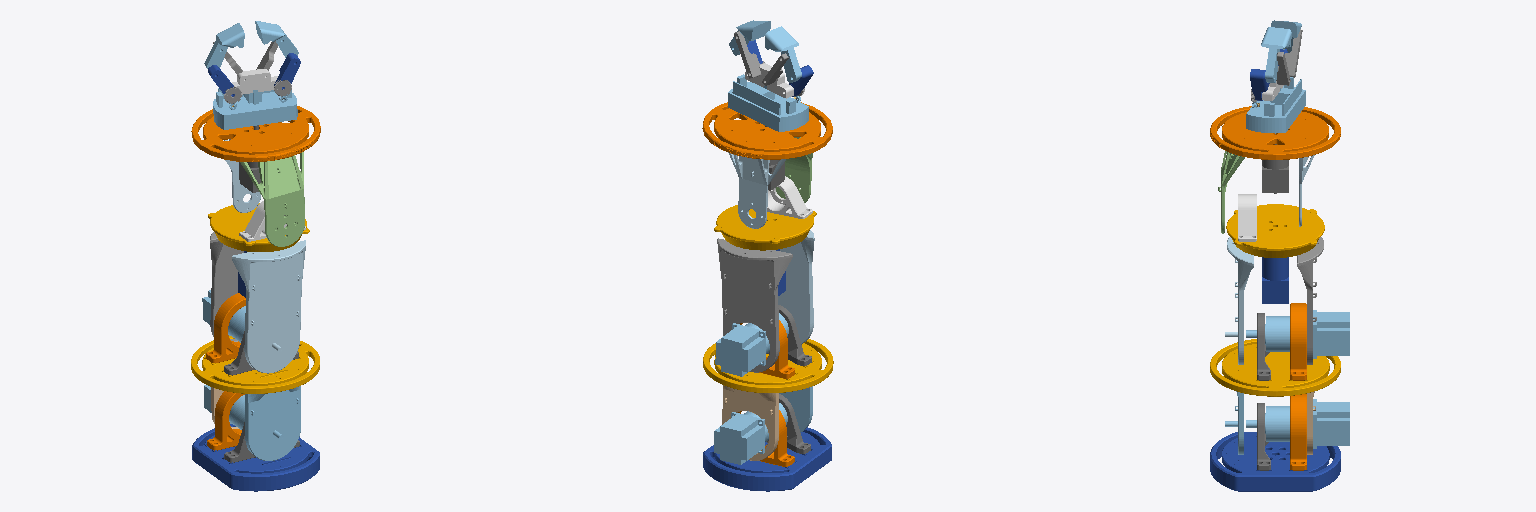
--- Facts derived from the render (not from the file) ---
Views: 3 orthographic renders of the robot side by side, from view 1: azimuth 30°, elevation 25°; view 2: azimuth 150°, elevation 25°; view 3: azimuth 270°, elevation 25°.
Model robot with 9 links and 8 joints (7 revolute, 1 fixed), rooted at ob1_arm_base_link, posed every joint at zero.
Links seen in each view (by area): view 1: ob1_arm_shoulder_link, ob1_arm_forearm_link, ob1_arm_arm_link, ob1_arm_base_link, ob1_arm_gripper_base_link, ob1_arm_elbow_link, ob1_arm_rclaw_link, ob1_arm_lclaw_link; view 2: ob1_arm_shoulder_link, ob1_arm_arm_link, ob1_arm_forearm_link, ob1_arm_base_link, ob1_arm_elbow_link, ob1_arm_gripper_base_link, ob1_arm_lclaw_link, ob1_arm_rclaw_link; view 3: ob1_arm_base_link, ob1_arm_shoulder_link, ob1_arm_forearm_link, ob1_arm_elbow_link, ob1_arm_arm_link, ob1_arm_gripper_base_link, ob1_arm_rclaw_link, ob1_arm_lclaw_link.
Boxes of the visible links, <box> form: ob1_arm_shoulder_link: <box>191,290,319,460</box>; ob1_arm_forearm_link: <box>191,106,320,246</box>; ob1_arm_arm_link: <box>210,232,305,373</box>; ob1_arm_base_link: <box>192,385,319,491</box>; ob1_arm_gripper_base_link: <box>213,69,297,129</box>; ob1_arm_elbow_link: <box>208,201,309,251</box>; ob1_arm_rclaw_link: <box>255,21,300,89</box>; ob1_arm_lclaw_link: <box>204,23,244,96</box>; ob1_arm_shoulder_link: <box>703,305,833,460</box>; ob1_arm_arm_link: <box>717,230,814,372</box>; ob1_arm_forearm_link: <box>702,102,832,228</box>; ob1_arm_base_link: <box>703,394,831,491</box>; ob1_arm_elbow_link: <box>714,176,816,250</box>; ob1_arm_gripper_base_link: <box>728,61,808,131</box>; ob1_arm_lclaw_link: <box>762,26,813,96</box>; ob1_arm_rclaw_link: <box>729,20,770,78</box>; ob1_arm_base_link: <box>1210,394,1349,491</box>; ob1_arm_shoulder_link: <box>1210,303,1349,454</box>; ob1_arm_forearm_link: <box>1210,106,1340,233</box>; ob1_arm_elbow_link: <box>1226,194,1324,257</box>; ob1_arm_arm_link: <box>1225,237,1323,364</box>; ob1_arm_gripper_base_link: <box>1246,77,1305,133</box>; ob1_arm_rclaw_link: <box>1250,27,1291,100</box>; ob1_arm_lclaw_link: <box>1271,20,1302,77</box>.
Bounding box of the posed robot: 0.2011 × 0.2135 × 0.7468 m (x, y, z).
Meshes: 33 distinct files referenced, 36 mesh visuals loaded (31 binary STL); not drawn: 2 (reference not matched to a file when rendering).

The robot description file, URDF, robot "robot":
<?xml version="1.0" ?>
<!-- =================================================================================== -->
<!-- |    This document was autogenerated by xacro from main.xacro                     | -->
<!-- |    EDITING THIS FILE BY HAND IS NOT RECOMMENDED                                 | -->
<!-- =================================================================================== -->
<robot name="robot">
  <link name="ob1_arm_base_link">
    <visual>
      <origin rpy="-1.5708 1.21431e-16 3.90606e-18" xyz="3.31402e-16 -0.0195 0.06"/>
      <geometry>
        <mesh filename="meshes/shoulder_y_motor.stl"/>
      </geometry>
      <material name="shoulder_y_motor_material">
        <color rgba="0.615686 0.811765 0.929412 1.0"/>
      </material>
    </visual>
    <collision>
      <origin rpy="-1.5708 1.21431e-16 3.90606e-18" xyz="3.31402e-16 -0.0195 0.06"/>
      <geometry>
        <mesh filename="meshes/shoulder_y_motor.stl"/>
      </geometry>
      <material name="shoulder_y_motor_material">
        <color rgba="0.615686 0.811765 0.929412 1.0"/>
      </material>
    </collision>
    <visual>
      <origin rpy="-1.5708 1.2013e-16 2.92997e-21" xyz="1.33481e-16 -0.0195 0.06"/>
      <geometry>
        <mesh filename="meshes/shoulder_plate.stl"/>
      </geometry>
      <material name="shoulder_plate_material">
        <color rgba="0.231373 0.380392 0.705882 1.0"/>
      </material>
    </visual>
    <collision>
      <origin rpy="-1.5708 1.2013e-16 2.92997e-21" xyz="1.33481e-16 -0.0195 0.06"/>
      <geometry>
        <mesh filename="meshes/shoulder_plate.stl"/>
      </geometry>
      <material name="shoulder_plate_material">
        <color rgba="0.231373 0.380392 0.705882 1.0"/>
      </material>
    </collision>
    <visual>
      <origin rpy="-1.5708 1.20997e-16 7.25353e-18" xyz="3.46418e-16 -0.0195 0.06"/>
      <geometry>
        <mesh filename="meshes/motor_front_support_-_shoulder.stl"/>
      </geometry>
      <material name="motor_front_support_-_shoulder_material">
        <color rgba="0.498039 0.498039 0.498039 1.0"/>
      </material>
    </visual>
    <collision>
      <origin rpy="-1.5708 1.20997e-16 7.25353e-18" xyz="3.46418e-16 -0.0195 0.06"/>
      <geometry>
        <mesh filename="meshes/motor_front_support_-_shoulder.stl"/>
      </geometry>
      <material name="motor_front_support_-_shoulder_material">
        <color rgba="0.498039 0.498039 0.498039 1.0"/>
      </material>
    </collision>
    <visual>
      <origin rpy="-1.5708 1.2013e-16 2.92997e-21" xyz="-6.34937e-17 -0.0195 0.06"/>
      <geometry>
        <mesh filename="meshes/motor_mid_support_-_shoulder.stl"/>
      </geometry>
      <material name="motor_mid_support_-_shoulder_material">
        <color rgba="0.972549 0.529412 0.00392157 1.0"/>
      </material>
    </visual>
    <collision>
      <origin rpy="-1.5708 1.2013e-16 2.92997e-21" xyz="-6.34937e-17 -0.0195 0.06"/>
      <geometry>
        <mesh filename="meshes/motor_mid_support_-_shoulder.stl"/>
      </geometry>
      <material name="motor_mid_support_-_shoulder_material">
        <color rgba="0.972549 0.529412 0.00392157 1.0"/>
      </material>
    </collision>
    <inertial>
      <origin rpy="0 0 0" xyz="0 0 0"/>
      <mass value="0"/>
      <inertia ixx="0" ixy="0" ixz="0" iyy="0" iyz="0" izz="0"/>
    </inertial>
  </link>
  <link name="ob1_arm_shoulder_link">
    <visual>
      <origin rpy="3.14159 -2.02376e-31 3.10097e-18" xyz="-2.59124e-17 0.15 0.067"/>
      <geometry>
        <mesh filename="meshes/shoulder_linkage_-_motor.stl"/>
      </geometry>
      <material name="shoulder_linkage_-_motor_material">
        <color rgba="0.921569 0.8 0.654902 1.0"/>
      </material>
    </visual>
    <collision>
      <origin rpy="3.14159 -2.02376e-31 3.10097e-18" xyz="-2.59124e-17 0.15 0.067"/>
      <geometry>
        <mesh filename="meshes/shoulder_linkage_-_motor.stl"/>
      </geometry>
      <material name="shoulder_linkage_-_motor_material">
        <color rgba="0.921569 0.8 0.654902 1.0"/>
      </material>
    </collision>
    <visual>
      <origin rpy="-3.14159 6.26309e-30 3.30936e-16" xyz="8.79071e-16 6.245e-16 0.067"/>
      <geometry>
        <mesh filename="meshes/bicep_y_motor.stl"/>
      </geometry>
      <material name="bicep_y_motor_material">
        <color rgba="0.615686 0.811765 0.929412 1.0"/>
      </material>
    </visual>
    <collision>
      <origin rpy="-3.14159 6.26309e-30 3.30936e-16" xyz="8.79071e-16 6.245e-16 0.067"/>
      <geometry>
        <mesh filename="meshes/bicep_y_motor.stl"/>
      </geometry>
      <material name="bicep_y_motor_material">
        <color rgba="0.615686 0.811765 0.929412 1.0"/>
      </material>
    </collision>
    <visual>
      <origin rpy="-3.14159 1.39936e-30 -2.98503e-17" xyz="1.03715e-15 1.04083e-15 0.067"/>
      <geometry>
        <mesh filename="meshes/motor_front_support_-_bicep.stl"/>
      </geometry>
      <material name="motor_front_support_-_bicep_material">
        <color rgba="0.498039 0.498039 0.498039 1.0"/>
      </material>
    </visual>
    <collision>
      <origin rpy="-3.14159 1.39936e-30 -2.98503e-17" xyz="1.03715e-15 1.04083e-15 0.067"/>
      <geometry>
        <mesh filename="meshes/motor_front_support_-_bicep.stl"/>
      </geometry>
      <material name="motor_front_support_-_bicep_material">
        <color rgba="0.498039 0.498039 0.498039 1.0"/>
      </material>
    </collision>
    <visual>
      <origin rpy="-3.14159 1.84829e-30 -7.32146e-17" xyz="1.05677e-15 1.06859e-15 0.067"/>
      <geometry>
        <mesh filename="meshes/bicep_plate_-_real.stl"/>
      </geometry>
      <material name="bicep_plate_-_real_material">
        <color rgba="0.980392 0.713725 0.00392157 1.0"/>
      </material>
    </visual>
    <collision>
      <origin rpy="-3.14159 1.84829e-30 -7.32146e-17" xyz="1.05677e-15 1.06859e-15 0.067"/>
      <geometry>
        <mesh filename="meshes/bicep_plate_-_real.stl"/>
      </geometry>
      <material name="bicep_plate_-_real_material">
        <color rgba="0.980392 0.713725 0.00392157 1.0"/>
      </material>
    </collision>
    <visual>
      <origin rpy="-3.14159 1.97023e-30 1.36668e-16" xyz="9.52797e-16 9.57567e-16 0.067"/>
      <geometry>
        <mesh filename="meshes/shoulder_linkage_-_encoder.stl"/>
      </geometry>
      <material name="shoulder_linkage_-_encoder_material">
        <color rgba="0.615686 0.811765 0.929412 1.0"/>
      </material>
    </visual>
    <collision>
      <origin rpy="-3.14159 1.97023e-30 1.36668e-16" xyz="9.52797e-16 9.57567e-16 0.067"/>
      <geometry>
        <mesh filename="meshes/shoulder_linkage_-_encoder.stl"/>
      </geometry>
      <material name="shoulder_linkage_-_encoder_material">
        <color rgba="0.615686 0.811765 0.929412 1.0"/>
      </material>
    </collision>
    <visual>
      <origin rpy="-3.14159 2.70566e-31 -7.32146e-17" xyz="1.11651e-15 1.05471e-15 0.067"/>
      <geometry>
        <mesh filename="meshes/motor_mid_support_-_bicep.stl"/>
      </geometry>
      <material name="motor_mid_support_-_bicep_material">
        <color rgba="0.972549 0.529412 0.00392157 1.0"/>
      </material>
    </visual>
    <collision>
      <origin rpy="-3.14159 2.70566e-31 -7.32146e-17" xyz="1.11651e-15 1.05471e-15 0.067"/>
      <geometry>
        <mesh filename="meshes/motor_mid_support_-_bicep.stl"/>
      </geometry>
      <material name="motor_mid_support_-_bicep_material">
        <color rgba="0.972549 0.529412 0.00392157 1.0"/>
      </material>
    </collision>
    <inertial>
      <origin rpy="0 0 0" xyz="0 0 0"/>
      <mass value="0"/>
      <inertia ixx="0" ixy="0" ixz="0" iyy="0" iyz="0" izz="0"/>
    </inertial>
  </link>
  <link name="ob1_arm_arm_link">
    <visual>
      <origin rpy="-3.14159 0.18918 1.80411e-15" xyz="0.00366704 -1.27676e-15 0.0666521"/>
      <geometry>
        <mesh filename="meshes/forearm_z_motor_shaft_collar_-_9604t12_flange-mount_shaft_collar.stl"/>
      </geometry>
      <material name="forearm_z_motor_shaft_collar_-_9604t12_flange-mount_shaft_collar_material">
        <color rgba="0.498039 0.498039 0.498039 1.0"/>
      </material>
    </visual>
    <collision>
      <origin rpy="-3.14159 0.18918 1.80411e-15" xyz="0.00366704 -1.27676e-15 0.0666521"/>
      <geometry>
        <mesh filename="meshes/forearm_z_motor_shaft_collar_-_9604t12_flange-mount_shaft_collar.stl"/>
      </geometry>
      <material name="forearm_z_motor_shaft_collar_-_9604t12_flange-mount_shaft_collar_material">
        <color rgba="0.498039 0.498039 0.498039 1.0"/>
      </material>
    </collision>
    <visual>
      <origin rpy="-3.14159 2.13756e-29 -1.6944e-16" xyz="-2.13371e-15 -1.38778e-16 0.067"/>
      <geometry>
        <mesh filename="meshes/bicep_z_motor.stl"/>
      </geometry>
      <material name="bicep_z_motor_material">
        <color rgba="0.231373 0.380392 0.705882 1.0"/>
      </material>
    </visual>
    <collision>
      <origin rpy="-3.14159 2.13756e-29 -1.6944e-16" xyz="-2.13371e-15 -1.38778e-16 0.067"/>
      <geometry>
        <mesh filename="meshes/bicep_z_motor.stl"/>
      </geometry>
      <material name="bicep_z_motor_material">
        <color rgba="0.231373 0.380392 0.705882 1.0"/>
      </material>
    </collision>
    <visual>
      <origin rpy="-3.14159 2.13756e-29 -1.6944e-16" xyz="-2.12851e-15 8.04912e-16 0.067"/>
      <geometry>
        <mesh filename="meshes/bicep_linkage_-_encoder.stl"/>
      </geometry>
      <material name="bicep_linkage_-_encoder_material">
        <color rgba="0.768627 0.886275 0.952941 1.0"/>
      </material>
    </visual>
    <collision>
      <origin rpy="-3.14159 2.13756e-29 -1.6944e-16" xyz="-2.12851e-15 8.04912e-16 0.067"/>
      <geometry>
        <mesh filename="meshes/bicep_linkage_-_encoder.stl"/>
      </geometry>
      <material name="bicep_linkage_-_encoder_material">
        <color rgba="0.768627 0.886275 0.952941 1.0"/>
      </material>
    </collision>
    <visual>
      <origin rpy="-3.14159 -8.22245e-32 -2.84672e-18" xyz="1.73472e-18 -2.77556e-17 0.067"/>
      <geometry>
        <mesh filename="meshes/bicep_linkage_-_motor.stl"/>
      </geometry>
      <material name="bicep_linkage_-_motor_material">
        <color rgba="0.647059 0.647059 0.647059 1.0"/>
      </material>
    </visual>
    <collision>
      <origin rpy="-3.14159 -8.22245e-32 -2.84672e-18" xyz="1.73472e-18 -2.77556e-17 0.067"/>
      <geometry>
        <mesh filename="meshes/bicep_linkage_-_motor.stl"/>
      </geometry>
      <material name="bicep_linkage_-_motor_material">
        <color rgba="0.647059 0.647059 0.647059 1.0"/>
      </material>
    </collision>
    <visual>
      <origin rpy="-3.14159 3.58504e-30 -7.91075e-17" xyz="-2.0834e-15 2.02616e-15 0.067"/>
      <geometry>
        <mesh filename="meshes/forearm_plate.stl"/>
      </geometry>
      <material name="forearm_plate_material">
        <color rgba="0.647059 0.647059 0.647059 1.0"/>
      </material>
    </visual>
    <collision>
      <origin rpy="-3.14159 3.58504e-30 -7.91075e-17" xyz="-2.0834e-15 2.02616e-15 0.067"/>
      <geometry>
        <mesh filename="meshes/forearm_plate.stl"/>
      </geometry>
      <material name="forearm_plate_material">
        <color rgba="0.647059 0.647059 0.647059 1.0"/>
      </material>
    </collision>
    <inertial>
      <origin rpy="0 0 0" xyz="0 0 0"/>
      <mass value="0"/>
      <inertia ixx="0" ixy="0" ixz="0" iyy="0" iyz="0" izz="0"/>
    </inertial>
  </link>
  <link name="ob1_arm_elbow_link">
    <visual>
      <origin rpy="1.5708 2.04915e-16 7.13982e-16" xyz="-1.14492e-16 0.0195 0.18"/>
      <geometry>
        <mesh filename="meshes/forearm_motor_support.stl"/>
      </geometry>
      <material name="forearm_motor_support_material">
        <color rgba="0.917647 0.917647 0.917647 1.0"/>
      </material>
    </visual>
    <collision>
      <origin rpy="1.5708 2.04915e-16 7.13982e-16" xyz="-1.14492e-16 0.0195 0.18"/>
      <geometry>
        <mesh filename="meshes/forearm_motor_support.stl"/>
      </geometry>
      <material name="forearm_motor_support_material">
        <color rgba="0.917647 0.917647 0.917647 1.0"/>
      </material>
    </collision>
    <visual>
      <origin rpy="1.5708 4.02585e-18 2.26158e-19" xyz="-1.56125e-17 0.0195 0.18"/>
      <geometry>
        <mesh filename="meshes/forearm_intermediate_plate.stl"/>
      </geometry>
      <material name="forearm_intermediate_plate_material">
        <color rgba="0.980392 0.713725 0.00392157 1.0"/>
      </material>
    </visual>
    <collision>
      <origin rpy="1.5708 4.02585e-18 2.26158e-19" xyz="-1.56125e-17 0.0195 0.18"/>
      <geometry>
        <mesh filename="meshes/forearm_intermediate_plate.stl"/>
      </geometry>
      <material name="forearm_intermediate_plate_material">
        <color rgba="0.980392 0.713725 0.00392157 1.0"/>
      </material>
    </collision>
    <visual>
      <origin rpy="1.5708 1.05794e-15 1.82583e-15" xyz="7.32053e-16 0.05285 -0.03115"/>
      <geometry>
        <mesh filename="meshes/part_1.stl"/>
      </geometry>
      <material name="part_1_material">
        <color rgba="0.615686 0.811765 0.929412 1.0"/>
      </material>
    </visual>
    <collision>
      <origin rpy="1.5708 1.05794e-15 1.82583e-15" xyz="7.32053e-16 0.05285 -0.03115"/>
      <geometry>
        <mesh filename="meshes/part_1.stl"/>
      </geometry>
      <material name="part_1_material">
        <color rgba="0.615686 0.811765 0.929412 1.0"/>
      </material>
    </collision>
    <inertial>
      <origin rpy="0 0 0" xyz="0 0 0"/>
      <mass value="0"/>
      <inertia ixx="0" ixy="0" ixz="0" iyy="0" iyz="0" izz="0"/>
    </inertial>
  </link>
  <link name="ob1_arm_forearm_link">
    <visual>
      <origin rpy="1.44226e-20 3.73615e-17 2.30593e-17" xyz="-1.43635e-15 0.21115 0.06335"/>
      <geometry>
        <mesh filename="meshes/end_effector_plate.stl"/>
      </geometry>
      <material name="end_effector_plate_material">
        <color rgba="0.972549 0.529412 0.00392157 1.0"/>
      </material>
    </visual>
    <collision>
      <origin rpy="1.44226e-20 3.73615e-17 2.30593e-17" xyz="-1.43635e-15 0.21115 0.06335"/>
      <geometry>
        <mesh filename="meshes/end_effector_plate.stl"/>
      </geometry>
      <material name="end_effector_plate_material">
        <color rgba="0.972549 0.529412 0.00392157 1.0"/>
      </material>
    </collision>
    <visual>
      <origin rpy="-1.61808e-19 9.63599e-17 2.17225e-16" xyz="1.5786e-15 0.21115 0.06335"/>
      <geometry>
        <mesh filename="meshes/forearm_linkage_-_encoder.stl"/>
      </geometry>
      <material name="forearm_linkage_-_encoder_material">
        <color rgba="0.768627 0.886275 0.952941 1.0"/>
      </material>
    </visual>
    <collision>
      <origin rpy="-1.61808e-19 9.63599e-17 2.17225e-16" xyz="1.5786e-15 0.21115 0.06335"/>
      <geometry>
        <mesh filename="meshes/forearm_linkage_-_encoder.stl"/>
      </geometry>
      <material name="forearm_linkage_-_encoder_material">
        <color rgba="0.768627 0.886275 0.952941 1.0"/>
      </material>
    </collision>
    <visual>
      <origin rpy="2.64017e-20 6.23759e-20 2.25943e-18" xyz="-1.04083e-17 0.21115 0.06335"/>
      <geometry>
        <mesh filename="meshes/forearm_linkage_-_motor.stl"/>
      </geometry>
      <material name="forearm_linkage_-_motor_material">
        <color rgba="0.654902 0.823529 0.576471 1.0"/>
      </material>
    </visual>
    <collision>
      <origin rpy="2.64017e-20 6.23759e-20 2.25943e-18" xyz="-1.04083e-17 0.21115 0.06335"/>
      <geometry>
        <mesh filename="meshes/forearm_linkage_-_motor.stl"/>
      </geometry>
      <material name="forearm_linkage_-_motor_material">
        <color rgba="0.654902 0.823529 0.576471 1.0"/>
      </material>
    </collision>
    <visual>
      <origin rpy="-2.34386e-19 3.24406e-16 6.50284e-17" xyz="4.17721e-15 0.21115 0.06335"/>
      <geometry>
        <mesh filename="meshes/wrist_z_motor.stl"/>
      </geometry>
      <material name="wrist_z_motor_material">
        <color rgba="0.498039 0.498039 0.498039 1.0"/>
      </material>
    </visual>
    <collision>
      <origin rpy="-2.34386e-19 3.24406e-16 6.50284e-17" xyz="4.17721e-15 0.21115 0.06335"/>
      <geometry>
        <mesh filename="meshes/wrist_z_motor.stl"/>
      </geometry>
      <material name="wrist_z_motor_material">
        <color rgba="0.498039 0.498039 0.498039 1.0"/>
      </material>
    </collision>
    <inertial>
      <origin rpy="0 0 0" xyz="0 0 0"/>
      <mass value="0"/>
      <inertia ixx="0" ixy="0" ixz="0" iyy="0" iyz="0" izz="0"/>
    </inertial>
  </link>
  <joint name="ob1_arm_elbow_forearm_joint" type="revolute">
    <origin rpy="1.5708 0.0729385 1.34977e-15" xyz="7.71952e-16 0.08285 -0.03115"/>
    <parent link="ob1_arm_elbow_link"/>
    <child link="ob1_arm_forearm_link"/>
    <axis xyz="0 0 1"/>
    <limit effort="1" lower="-1.5787" upper="1.5787" velocity="20"/>
    <joint_properties friction="0.0"/>
    <dynamics D="1" K="7000" damping="0.003" friction="0.0" mu_coulomb="0" mu_viscous="16"/>
  </joint>
  <joint name="ob1_arm_arm_elbow_joint" type="revolute">
    <origin rpy="1.5708 0.00373826 -5.38613e-15" xyz="-1.33227e-15 0.18 0.0475"/>
    <parent link="ob1_arm_arm_link"/>
    <child link="ob1_arm_elbow_link"/>
    <axis xyz="0 0 1"/>
    <limit effort="1" lower="-3.14" upper="3.14" velocity="20"/>
    <joint_properties friction="0.0"/>
    <dynamics D="1" K="7000" damping="0.003" friction="0.0" mu_coulomb="0" mu_viscous="16"/>
  </joint>
  <joint name="ob1_arm_shoulder_arm_joint" type="revolute">
    <origin rpy="8.20328e-16 -1.37552e-14 -0.046259" xyz="2.90241e-16 0.15 -7.97973e-16"/>
    <parent link="ob1_arm_shoulder_link"/>
    <child link="ob1_arm_arm_link"/>
    <axis xyz="0 0 1"/>
    <limit effort="1" lower="-1.5787" upper="1.5787" velocity="20"/>
    <joint_properties friction="0.0"/>
    <dynamics D="1" K="7000" damping="0.003" friction="0.0" mu_coulomb="0" mu_viscous="16"/>
  </joint>
  <joint name="ob1_arm_base_shoulder_joint" type="revolute">
    <origin rpy="1.5708 -0.0134839 4.87562e-15" xyz="8.1532e-17 0.0475 0.06"/>
    <parent link="ob1_arm_base_link"/>
    <child link="ob1_arm_shoulder_link"/>
    <axis xyz="0 0 1"/>
    <limit effort="1" lower="-1.5787" upper="1.5787" velocity="20"/>
    <joint_properties friction="0.0"/>
    <dynamics D="1" K="7000" damping="0.003" friction="0.0" mu_coulomb="0" mu_viscous="16"/>
  </joint>
  <link name="ob1_arm_gripper_base_link">
    <visual>
      <origin rpy="-1.31921 -1.52407 -0.251324" xyz="-0.04015 0.0144875 -0.0347028"/>
      <geometry>
        <mesh filename="meshes/hk15328d_v5.stl"/>
      </geometry>
      <material name="hk15328d_v5_material">
        <color rgba="0.952941 0.796078 0.486275 1.0"/>
      </material>
    </visual>
    <collision>
      <origin rpy="-1.31921 -1.52407 -0.251324" xyz="-0.04015 0.0144875 -0.0347028"/>
      <geometry>
        <mesh filename="meshes/hk15328d_v5.stl"/>
      </geometry>
      <material name="hk15328d_v5_material">
        <color rgba="0.952941 0.796078 0.486275 1.0"/>
      </material>
    </collision>
    <visual>
      <origin rpy="0.251587 -1.52407 -0.251324" xyz="-0.04015 0.0239869 -0.0345924"/>
      <geometry>
        <mesh filename="meshes/spur_gear_(16_teeth).stl"/>
      </geometry>
      <material name="spur_gear_(16_teeth)_material">
        <color rgba="0.615686 0.811765 0.929412 1.0"/>
      </material>
    </visual>
    <collision>
      <origin rpy="0.251587 -1.52407 -0.251324" xyz="-0.04015 0.0239869 -0.0345924"/>
      <geometry>
        <mesh filename="meshes/spur_gear_(16_teeth).stl"/>
      </geometry>
      <material name="spur_gear_(16_teeth)_material">
        <color rgba="0.615686 0.811765 0.929412 1.0"/>
      </material>
    </collision>
    <visual>
      <origin rpy="-3.14159 -0.174533 4.4254e-17" xyz="-0.04 0.019 -0.0535151"/>
      <geometry>
        <mesh filename="meshes/spur_gear_(36_teeth).stl"/>
      </geometry>
      <material name="spur_gear_(36_teeth)_material">
        <color rgba="0.647059 0.647059 0.647059 1.0"/>
      </material>
    </visual>
    <collision>
      <origin rpy="-3.14159 -0.174533 4.4254e-17" xyz="-0.04 0.019 -0.0535151"/>
      <geometry>
        <mesh filename="meshes/spur_gear_(36_teeth).stl"/>
      </geometry>
      <material name="spur_gear_(36_teeth)_material">
        <color rgba="0.647059 0.647059 0.647059 1.0"/>
      </material>
    </collision>
    <visual>
      <origin rpy="-3.14159 1.01857e-14 5.54818e-17" xyz="6.93889e-18 -8.67362e-19 -1.77636e-15"/>
      <geometry>
        <mesh filename="meshes/part_2_gripper.stl"/>
      </geometry>
      <material name="part_2_gripper_material">
        <color rgba="0.917647 0.917647 0.917647 1.0"/>
      </material>
    </visual>
    <collision>
      <origin rpy="-3.14159 1.01857e-14 5.54818e-17" xyz="6.93889e-18 -8.67362e-19 -1.77636e-15"/>
      <geometry>
        <mesh filename="meshes/part_2_gripper.stl"/>
      </geometry>
      <material name="part_2_gripper_material">
        <color rgba="0.917647 0.917647 0.917647 1.0"/>
      </material>
    </collision>
    <visual>
      <origin rpy="3.10536 -1.244 -3.10728" xyz="0.04015 0.0239869 -0.0345924"/>
      <geometry>
        <mesh filename="meshes/spur_gear_(16_teeth).stl"/>
      </geometry>
      <material name="spur_gear_(16_teeth)_material">
        <color rgba="0.615686 0.811765 0.929412 1.0"/>
      </material>
    </visual>
    <collision>
      <origin rpy="3.10536 -1.244 -3.10728" xyz="0.04015 0.0239869 -0.0345924"/>
      <geometry>
        <mesh filename="meshes/spur_gear_(16_teeth).stl"/>
      </geometry>
      <material name="spur_gear_(16_teeth)_material">
        <color rgba="0.615686 0.811765 0.929412 1.0"/>
      </material>
    </collision>
    <visual>
      <origin rpy="1.10827e-14 1.0192e-14 1.02561e-16" xyz="0.04 0.024 -0.0535151"/>
      <geometry>
        <mesh filename="meshes/spur_gear_(36_teeth).stl"/>
      </geometry>
      <material name="spur_gear_(36_teeth)_material">
        <color rgba="0.647059 0.647059 0.647059 1.0"/>
      </material>
    </visual>
    <collision>
      <origin rpy="1.10827e-14 1.0192e-14 1.02561e-16" xyz="0.04 0.024 -0.0535151"/>
      <geometry>
        <mesh filename="meshes/spur_gear_(36_teeth).stl"/>
      </geometry>
      <material name="spur_gear_(36_teeth)_material">
        <color rgba="0.647059 0.647059 0.647059 1.0"/>
      </material>
    </collision>
    <visual>
      <origin rpy="1.53457 -1.244 -3.10728" xyz="0.04015 0.0144875 -0.0347028"/>
      <geometry>
        <mesh filename="meshes/hk15328d_v5.stl"/>
      </geometry>
      <material name="hk15328d_v5_material">
        <color rgba="0.952941 0.796078 0.486275 1.0"/>
      </material>
    </visual>
    <collision>
      <origin rpy="1.53457 -1.244 -3.10728" xyz="0.04015 0.0144875 -0.0347028"/>
      <geometry>
        <mesh filename="meshes/hk15328d_v5.stl"/>
      </geometry>
      <material name="hk15328d_v5_material">
        <color rgba="0.952941 0.796078 0.486275 1.0"/>
      </material>
    </collision>
    <visual>
      <origin rpy="8.11517e-13 1.55917 1.5708" xyz="0.04015 0.0144875 -0.0347028"/>
      <geometry>
        <mesh filename="meshes/hk15328d_v5.stl"/>
      </geometry>
      <material name="hk15328d_v5_material">
        <color rgba="0.392157 0.403922 0.384314 1.0"/>
      </material>
    </visual>
    <collision>
      <origin rpy="8.11517e-13 1.55917 1.5708" xyz="0.04015 0.0144875 -0.0347028"/>
      <geometry>
        <mesh filename="meshes/hk15328d_v5.stl"/>
      </geometry>
      <material name="hk15328d_v5_material">
        <color rgba="0.392157 0.403922 0.384314 1.0"/>
      </material>
    </collision>
    <visual>
      <origin rpy="-1.23792e-12 -1.55917 -1.5708" xyz="-0.04015 0.0144875 -0.0347028"/>
      <geometry>
        <mesh filename="meshes/hk15328d_v5.stl"/>
      </geometry>
      <material name="hk15328d_v5_material">
        <color rgba="0.392157 0.403922 0.384314 1.0"/>
      </material>
    </visual>
    <collision>
      <origin rpy="-1.23792e-12 -1.55917 -1.5708" xyz="-0.04015 0.0144875 -0.0347028"/>
      <geometry>
        <mesh filename="meshes/hk15328d_v5.stl"/>
      </geometry>
      <material name="hk15328d_v5_material">
        <color rgba="0.392157 0.403922 0.384314 1.0"/>
      </material>
    </collision>
    <visual>
      <origin rpy="3.14159 -6.62591e-19 -1.44439e-17" xyz="3.46945e-18 -8.67362e-19 -1.11022e-16"/>
      <geometry>
        <mesh filename="meshes/part_1_gripper.stl"/>
      </geometry>
      <material name="part_1_gripper_material">
        <color rgba="0.615686 0.811765 0.929412 1.0"/>
      </material>
    </visual>
    <collision>
      <origin rpy="3.14159 -6.62591e-19 -1.44439e-17" xyz="3.46945e-18 -8.67362e-19 -1.11022e-16"/>
      <geometry>
        <mesh filename="meshes/part_1_gripper.stl"/>
      </geometry>
      <material name="part_1_gripper_material">
        <color rgba="0.615686 0.811765 0.929412 1.0"/>
      </material>
    </collision>
    <inertial>
      <origin rpy="0 0 0" xyz="0 0 0"/>
      <mass value="0"/>
      <inertia ixx="0" ixy="0" ixz="0" iyy="0" iyz="0" izz="0"/>
    </inertial>
  </link>
  <link name="ob1_arm_rclaw_link">
    <visual>
      <origin rpy="1.5708 -1.32447e-15 0.332485" xyz="-0.0203388 -0.0331036 0.037"/>
      <geometry>
        <mesh filename="meshes/part_1_mirror_gripper_claw.stl"/>
      </geometry>
      <material name="part_1_mirror_gripper_claw_material">
        <color rgba="0.615686 0.811765 0.929412 1.0"/>
      </material>
    </visual>
    <collision>
      <origin rpy="1.5708 -1.32447e-15 0.332485" xyz="-0.0203388 -0.0331036 0.037"/>
      <geometry>
        <mesh filename="meshes/part_1_mirror_gripper_claw.stl"/>
      </geometry>
      <material name="part_1_mirror_gripper_claw_material">
        <color rgba="0.615686 0.811765 0.929412 1.0"/>
      </material>
    </collision>
    <visual>
      <origin rpy="1.5708 2.79276e-18 -8.04372e-17" xyz="0.0106217 -0.0304372 0.012"/>
      <geometry>
        <mesh filename="meshes/part_3_mirror_gripper_claw.stl"/>
      </geometry>
      <material name="part_3_mirror_gripper_claw_material">
        <color rgba="0.231373 0.380392 0.705882 1.0"/>
      </material>
    </visual>
    <collision>
      <origin rpy="1.5708 2.79276e-18 -8.04372e-17" xyz="0.0106217 -0.0304372 0.012"/>
      <geometry>
        <mesh filename="meshes/part_3_mirror_gripper_claw.stl"/>
      </geometry>
      <material name="part_3_mirror_gripper_claw_material">
        <color rgba="0.231373 0.380392 0.705882 1.0"/>
      </material>
    </collision>
    <visual>
      <origin rpy="-1.5708 -5.46252e-16 -1.22447" xyz="0.0114671 -0.0521066 0.013"/>
      <geometry>
        <mesh filename="meshes/part_2_mirror_gripper_claw.stl"/>
      </geometry>
      <material name="part_2_mirror_gripper_claw_material">
        <color rgba="0.647059 0.647059 0.647059 1.0"/>
      </material>
    </visual>
    <collision>
      <origin rpy="-1.5708 -5.46252e-16 -1.22447" xyz="0.0114671 -0.0521066 0.013"/>
      <geometry>
        <mesh filename="meshes/part_2_mirror_gripper_claw.stl"/>
      </geometry>
      <material name="part_2_mirror_gripper_claw_material">
        <color rgba="0.647059 0.647059 0.647059 1.0"/>
      </material>
    </collision>
    <inertial>
      <origin rpy="0 0 0" xyz="0 0 0"/>
      <mass value="0"/>
      <inertia ixx="0" ixy="0" ixz="0" iyy="0" iyz="0" izz="0"/>
    </inertial>
  </link>
  <link name="ob1_arm_lclaw_link">
    <visual>
      <origin rpy="-1.5708 -3.1668e-17 1.26775" xyz="-0.00826547 -0.051955 0.013"/>
      <geometry>
        <mesh filename="meshes/part_2_gripper_claw.stl"/>
      </geometry>
      <material name="part_2_gripper_claw_material">
        <color rgba="0.647059 0.647059 0.647059 1.0"/>
      </material>
    </visual>
    <collision>
      <origin rpy="-1.5708 -3.1668e-17 1.26775" xyz="-0.00826547 -0.051955 0.013"/>
      <geometry>
        <mesh filename="meshes/part_2_gripper_claw.stl"/>
      </geometry>
      <material name="part_2_gripper_claw_material">
        <color rgba="0.647059 0.647059 0.647059 1.0"/>
      </material>
    </collision>
    <visual>
      <origin rpy="1.5708 -6.24126e-18 1.52187e-17" xyz="-0.0106217 -0.0304372 0.012"/>
      <geometry>
        <mesh filename="meshes/part_3_gripper_claw.stl"/>
      </geometry>
      <material name="part_3_gripper_claw_material">
        <color rgba="0.231373 0.380392 0.705882 1.0"/>
      </material>
    </visual>
    <collision>
      <origin rpy="1.5708 -6.24126e-18 1.52187e-17" xyz="-0.0106217 -0.0304372 0.012"/>
      <geometry>
        <mesh filename="meshes/part_3_gripper_claw.stl"/>
      </geometry>
      <material name="part_3_gripper_claw_material">
        <color rgba="0.231373 0.380392 0.705882 1.0"/>
      </material>
    </collision>
    <visual>
      <origin rpy="1.5708 -8.52418e-17 -0.296946" xyz="0.022895 -0.0320261 0.037"/>
      <geometry>
        <mesh filename="meshes/part_1_gripper_claw.stl"/>
      </geometry>
      <material name="part_1_gripper_claw_material">
        <color rgba="0.615686 0.811765 0.929412 1.0"/>
      </material>
    </visual>
    <collision>
      <origin rpy="1.5708 -8.52418e-17 -0.296946" xyz="0.022895 -0.0320261 0.037"/>
      <geometry>
        <mesh filename="meshes/part_1_gripper_claw.stl"/>
      </geometry>
      <material name="part_1_gripper_claw_material">
        <color rgba="0.615686 0.811765 0.929412 1.0"/>
      </material>
    </collision>
    <inertial>
      <origin rpy="0 0 0" xyz="0 0 0"/>
      <mass value="0"/>
      <inertia ixx="0" ixy="0" ixz="0" iyy="0" iyz="0" izz="0"/>
      eef
        
    </inertial>
  </link>
  <joint name="ob1_arm_gripper_lclaw_joint" type="revolute">
    <origin rpy="1.5708 -0.367452 -8.36952e-16" xyz="-0.04 0.008 -0.0535151"/>
    <parent link="ob1_arm_gripper_base_link"/>
    <child link="ob1_arm_lclaw_link"/>
    <axis xyz="0 0 1"/>
    <limit effort="1" lower="-3.14" upper="3.14" velocity="20"/>
    <joint_properties friction="0.0"/>
    <dynamics D="1" K="7000" damping="0.003" friction="0.0" mu_coulomb="0" mu_viscous="16"/>
  </joint>
  <joint name="ob1_arm_gripper_rclaw_joint" type="revolute">
    <origin rpy="1.5708 0.450222 1.06462e-15" xyz="0.04 0.008 -0.0535151"/>
    <parent link="ob1_arm_gripper_base_link"/>
    <child link="ob1_arm_rclaw_link"/>
    <axis xyz="0 0 1"/>
    <limit effort="1" lower="-3.14" upper="3.14" velocity="20"/>
    <joint_properties friction="0.0"/>
    <dynamics D="1" K="7000" damping="0.003" friction="0.0" mu_coulomb="0" mu_viscous="16"/>
  </joint>
  <link name="ob1_arm_eef_link">
    <inertial>
      <origin rpy="0 0 0" xyz="0 0 0"/>
      <mass value="0"/>
      <inertia ixx="0" ixy="0" ixz="0" iyy="0" iyz="0" izz="0"/>
    </inertial>
  </link>
  <joint name="ob1_arm_gripper_eef_joint" type="fixed">
    <origin rpy="0 0 0" xyz="0 0 -0.11"/>
    <parent link="ob1_arm_gripper_base_link"/>
    <child link="ob1_arm_eef_link"/>
  </joint>
  <!-- arm - gripper joint -->
  <joint name="ob1_arm_forearm_gripper_joint" type="revolute">
    <origin rpy="-1.5708 0.278795 3.7292e-15" xyz="-2.46331e-16 -0.155 0.08285"/>
    <parent link="ob1_arm_forearm_link"/>
    <child link="ob1_arm_gripper_base_link"/>
    <axis xyz="0 0 1"/>
    <limit effort="1" lower="-3.14" upper="3.14" velocity="20"/>
    <joint_properties friction="0.0"/>
    <dynamics D="1" K="7000" damping="0.003" friction="0.0" mu_coulomb="0" mu_viscous="16"/>
  </joint>
</robot>
